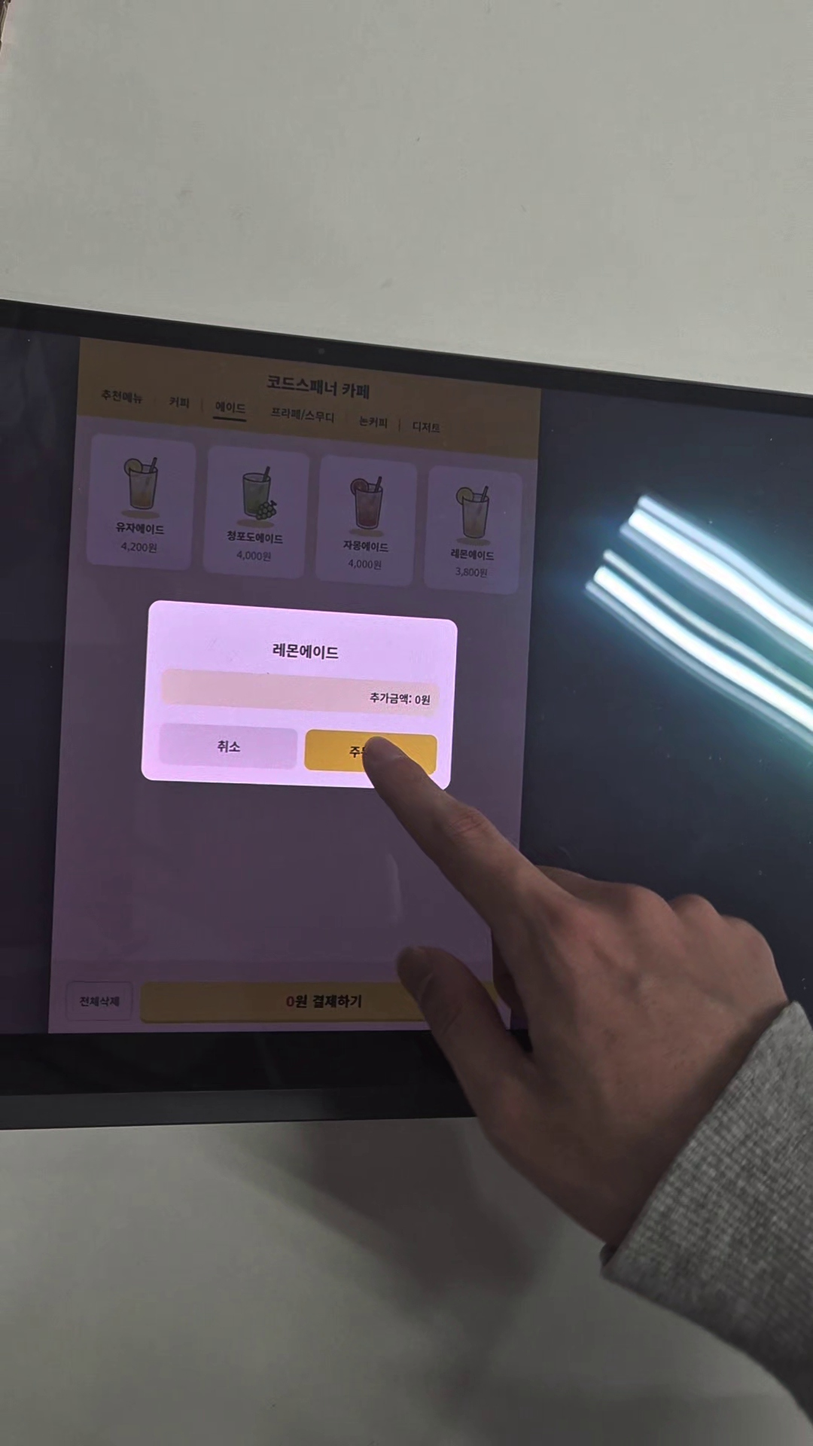action_button: (140, 981, 499, 1023), (158, 723, 298, 770), (304, 729, 437, 776), (66, 981, 132, 1021)
category_tab: (269, 406, 336, 425), (100, 387, 144, 407), (213, 399, 247, 416), (357, 413, 389, 430), (411, 419, 441, 436), (167, 395, 190, 410)
menu_back: (86, 433, 197, 572), (202, 444, 311, 580), (314, 454, 419, 587), (422, 465, 524, 595)
menu_name: (225, 528, 285, 547), (341, 538, 390, 555), (115, 521, 165, 537), (449, 546, 496, 563)
menu_price: (119, 540, 159, 556), (346, 557, 383, 573), (236, 549, 273, 564), (452, 565, 489, 580)
popup_modal: (140, 599, 459, 791)
